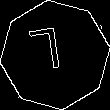L_S: (36, 28, 74, 82)
